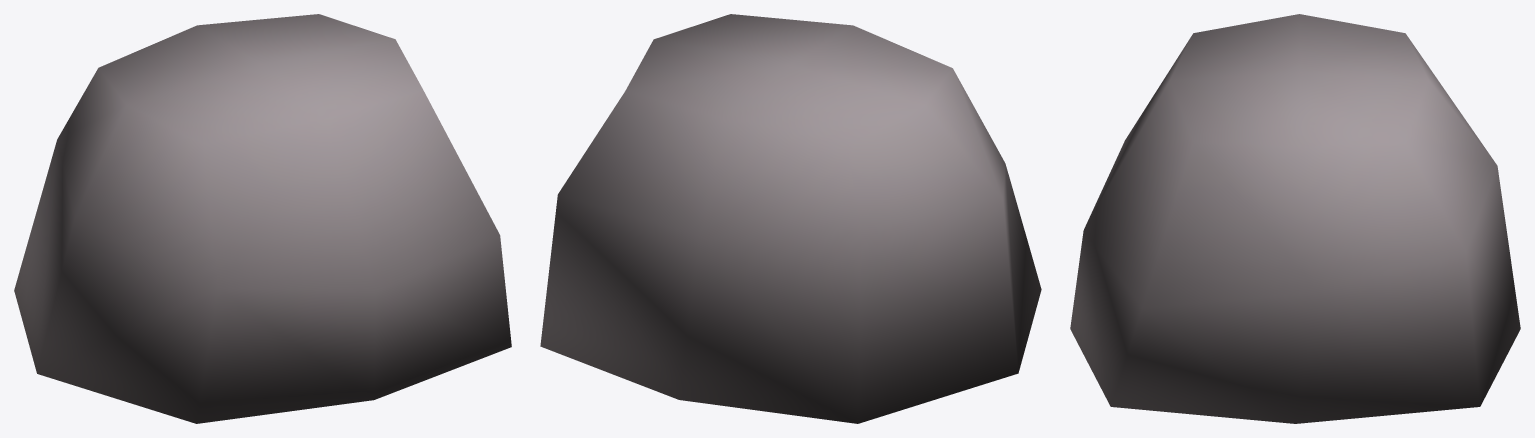
The model's file is rocktype2.glb.
The picture shows the model from 3 angles, left to right: view 1: azimuth 30°, elevation 25°; view 2: azimuth 150°, elevation 25°; view 3: azimuth 270°, elevation 25°; orthographic projection.
Visible parts, largest first — view 1: Rock02; view 2: Rock02; view 3: Rock02.
Boxes of the visible parts, <box> form: Rock02: <box>14,14,511,423</box>; Rock02: <box>540,14,1041,423</box>; Rock02: <box>1070,14,1520,423</box>.
Size of the model in its own units: 1.13 by 0.6525 by 1.04.
1 material, 1 textured.
